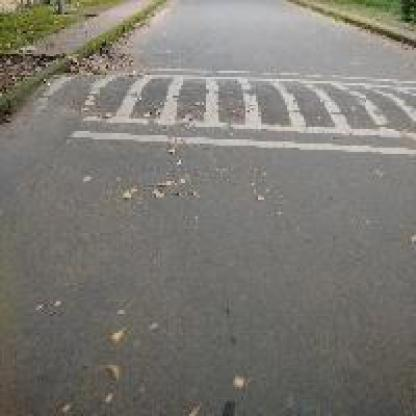Speed Bump: (21, 65, 412, 158)
